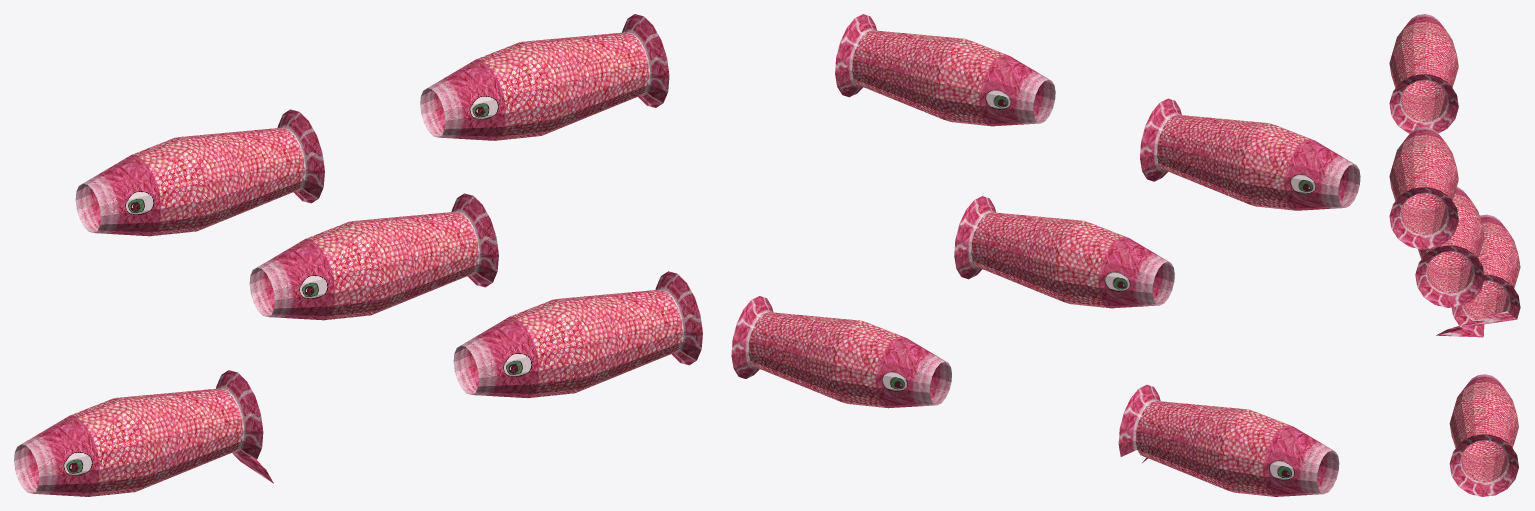
File: aquilone.obj
3 renders of one model, left to right at view 1: azimuth 30°, elevation 25°; view 2: azimuth 150°, elevation 25°; view 3: azimuth 270°, elevation 25°, orthographic. The views are drawn at different scales.
Visible parts, largest first — view 1: aquilone_Cylinder.001; view 2: aquilone_Cylinder.001; view 3: aquilone_Cylinder.001.
Boxes of the visible parts, <box> form: aquilone_Cylinder.001: <box>14,14,702,496</box>; aquilone_Cylinder.001: <box>731,14,1360,496</box>; aquilone_Cylinder.001: <box>1389,14,1520,496</box>.
Bounding box in the file's own units: 5.97 × 3.45 × 1.45.
